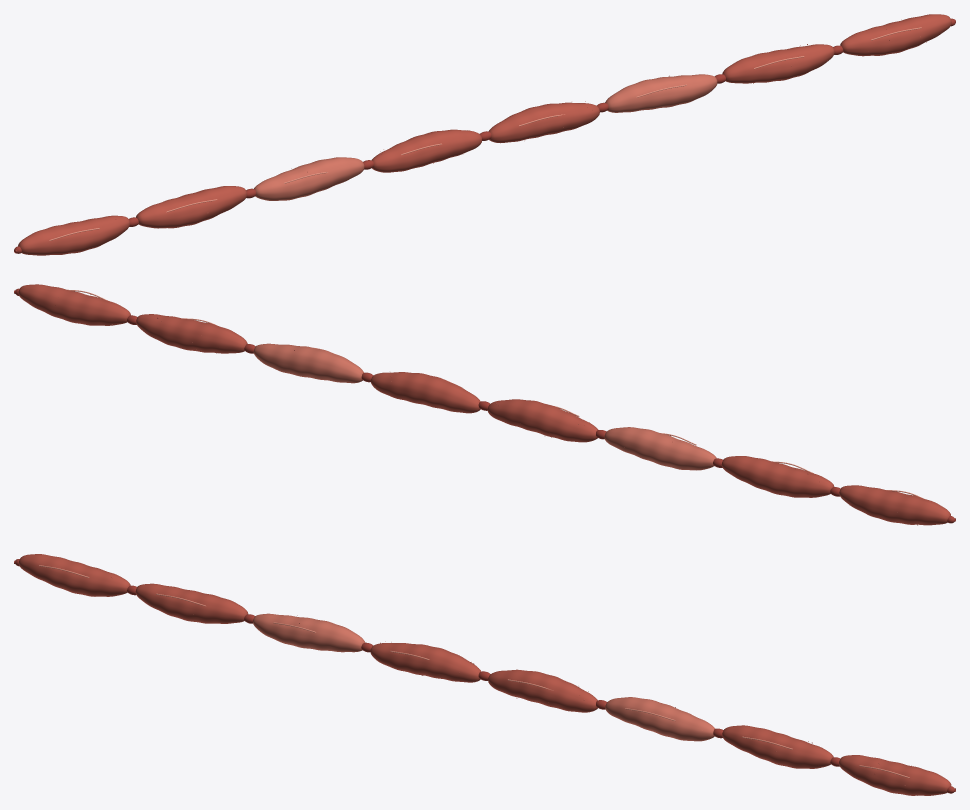
The model's file is Salchichas.glb.
3 views of the same model, one above another, from view 1: azimuth 30°, elevation 25°; view 2: azimuth 150°, elevation 25°; view 3: azimuth 330°, elevation 25° (orthographic).
Visible parts, largest first — view 1: Salchicha 06, Salchicha 04, Salchicha 07, Salchicha 05, Salchicha 03, Salchicha 01, Salchicha 02, Salchicha 08; view 2: Salchicha 03, Salchicha 08, Salchicha 02, Salchicha 04, Salchicha 01, Salchicha 07, Salchicha 05, Salchicha 06; view 3: Salchicha 02, Salchicha 03, Salchicha 08, Salchicha 07, Salchicha 01, Salchicha 05, Salchicha 06, Salchicha 04.
Boxes of the visible parts, bbox=[...] form: Salchicha 06: bbox=[605, 74, 717, 112]; Salchicha 04: bbox=[372, 129, 481, 172]; Salchicha 07: bbox=[722, 44, 834, 83]; Salchicha 05: bbox=[488, 102, 599, 143]; Salchicha 03: bbox=[254, 157, 364, 200]; Salchicha 01: bbox=[18, 215, 129, 255]; Salchicha 02: bbox=[136, 186, 246, 228]; Salchicha 08: bbox=[840, 14, 951, 56]; Salchicha 03: bbox=[604, 427, 716, 470]; Salchicha 08: bbox=[18, 284, 130, 325]; Salchicha 02: bbox=[721, 456, 834, 497]; Salchicha 04: bbox=[487, 399, 598, 442]; Salchicha 01: bbox=[839, 485, 950, 525]; Salchicha 07: bbox=[136, 314, 247, 353]; Salchicha 05: bbox=[371, 372, 480, 413]; Salchicha 06: bbox=[253, 343, 363, 383]; Salchicha 02: bbox=[135, 583, 248, 623]; Salchicha 03: bbox=[253, 613, 365, 652]; Salchicha 08: bbox=[839, 755, 951, 795]; Salchicha 07: bbox=[722, 725, 833, 768]; Salchicha 01: bbox=[19, 554, 130, 596]; Salchicha 05: bbox=[488, 669, 597, 712]; Salchicha 06: bbox=[605, 697, 715, 741]; Salchicha 04: bbox=[370, 643, 481, 682].
Bounding box in the file's own units: 7.5 × 0.2364 × 0.2147.
